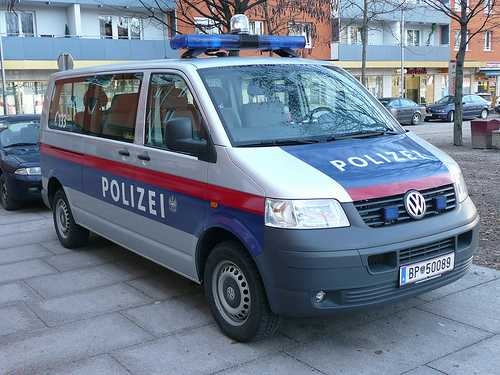Police Van: (37, 27, 452, 329)
